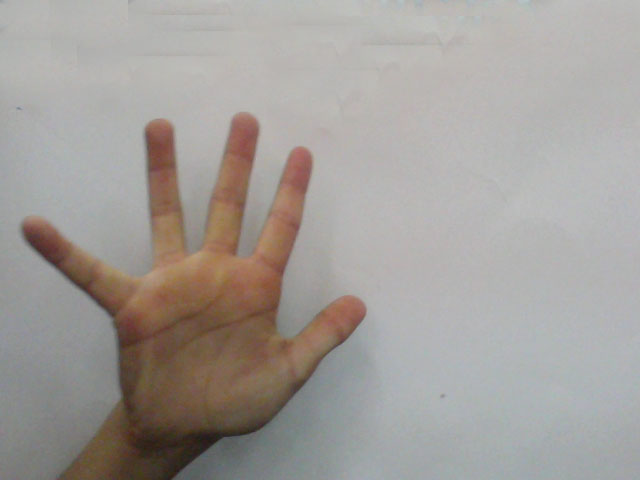hand: (16, 103, 378, 438)
